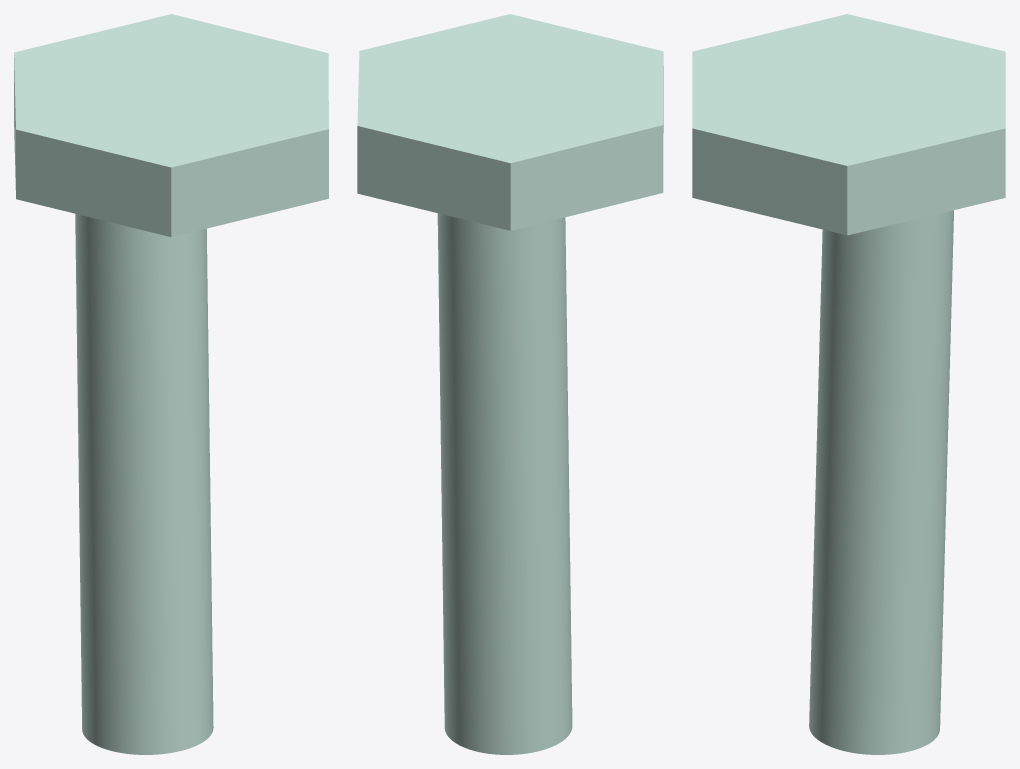
3 renders of one model, left to right at view 1: azimuth 30°, elevation 25°; view 2: azimuth 150°, elevation 25°; view 3: azimuth 270°, elevation 25°, orthographic. The views are drawn at different scales.
Visible parts, largest first — view 1: Renderer Node; view 2: Renderer Node; view 3: Renderer Node.
Part boxes in pixels (<box>): Renderer Node: <box>14,14,328,754</box>; Renderer Node: <box>357,14,663,754</box>; Renderer Node: <box>692,14,1005,754</box>.
Size of the model in its own units: 0.4034 by 0.7966 by 0.3516.
